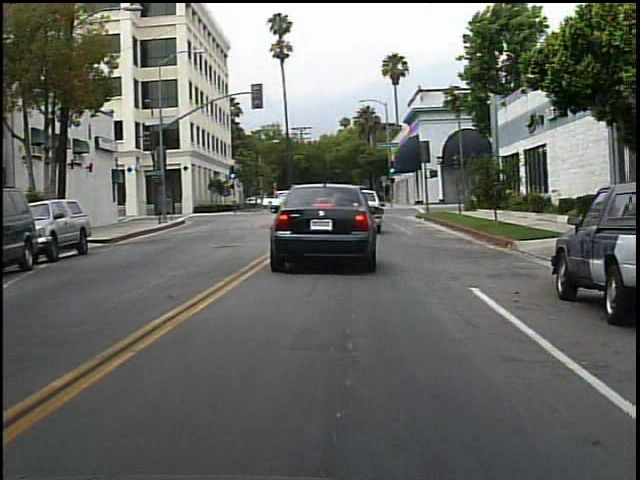person: (282, 185, 308, 221)
